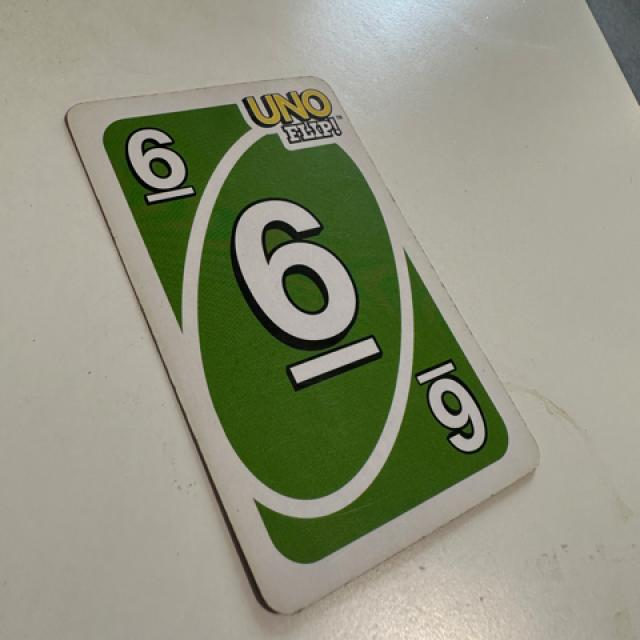lgreen-6: (118, 110, 220, 214)
